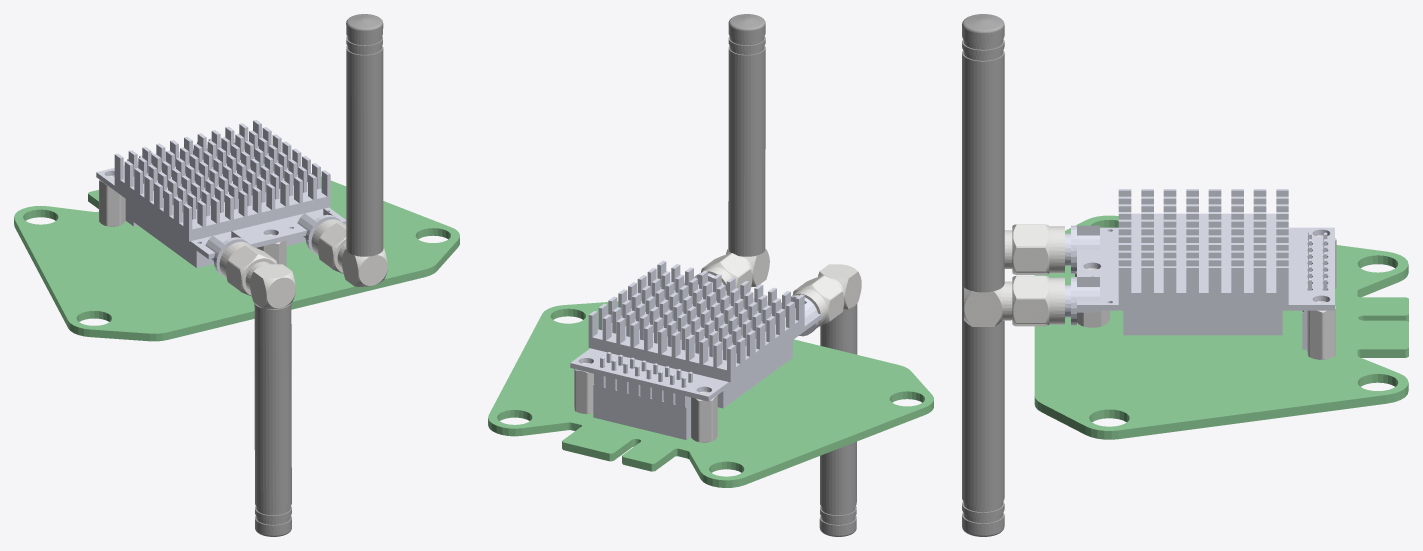
Rendered from rfdboard.glb.
3 views of the same model, side by side, from view 1: azimuth 30°, elevation 25°; view 2: azimuth 150°, elevation 25°; view 3: azimuth 270°, elevation 25° (orthographic). The views are drawn at different scales.
Visible parts, largest first — view 1: Separator (×7); view 2: Separator (×10); view 3: Separator (×9).
Part boxes in pixels (left/top/right/bottom): Separator (×7): left=14, top=14, right=459, bottom=536; Separator (×10): left=488, top=14, right=933, bottom=536; Separator (×9): left=962, top=14, right=1408, bottom=536.
Size of the model in its own units: 0.0841 by 0.1024 by 0.0737.
